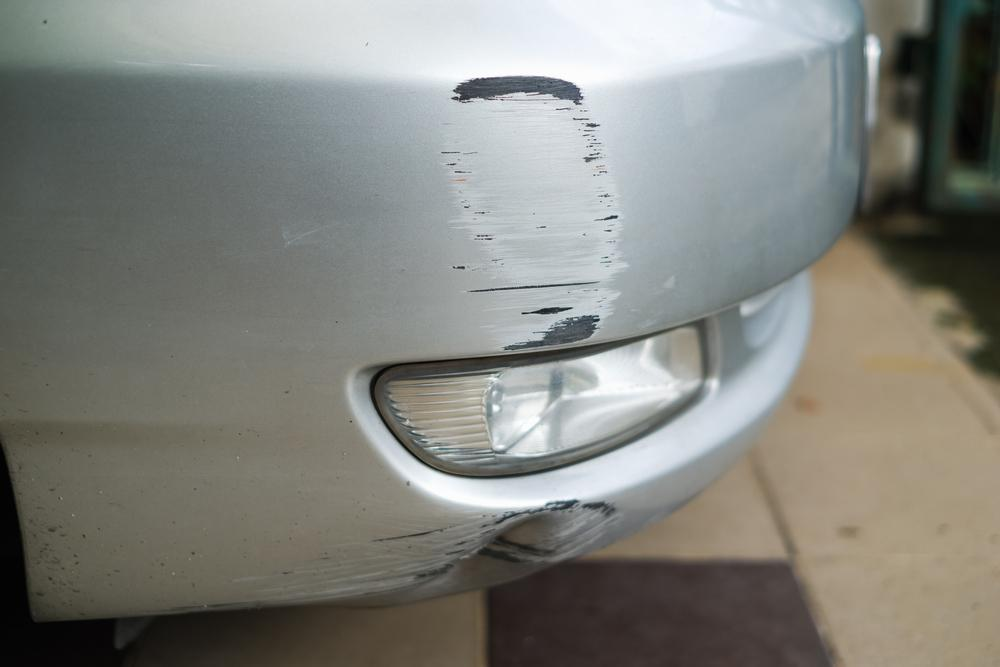dent: (439, 508, 576, 588)
scratch: (437, 63, 636, 350), (191, 510, 536, 602), (552, 498, 631, 545)
